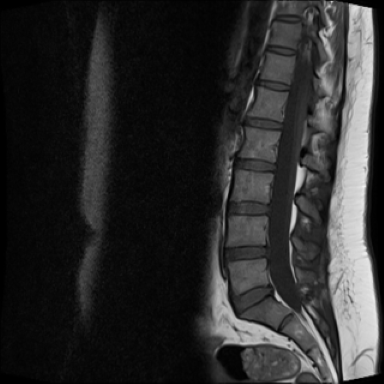Lumbar Disc Bulge (LDB): (227, 279, 279, 320), (222, 245, 270, 262)
Normal IVD: (224, 196, 276, 219), (232, 153, 280, 173), (241, 113, 285, 133), (253, 74, 293, 94), (260, 42, 300, 58), (271, 10, 305, 25)
Spinal Stenosis (SS): (263, 240, 275, 261), (268, 280, 278, 300)
